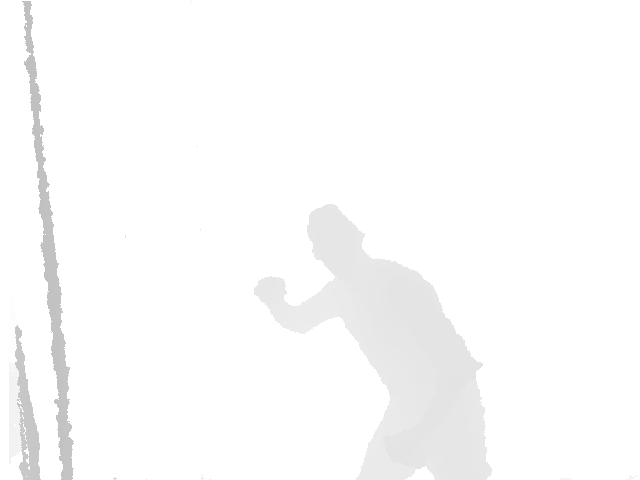head: (306, 203, 366, 264)
person: (254, 202, 493, 480)
